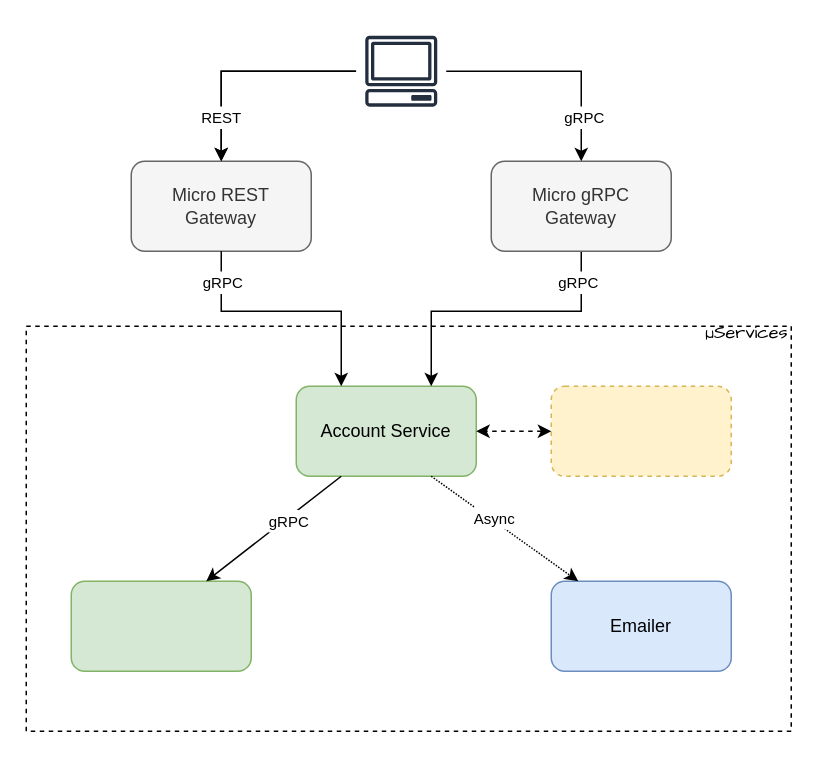
This 818x762 diagram has some shape labels left out. The box of each missing label's shape, as (x1, y1, x2, y2) in pixels:
Greeter Service: (70, 580, 251, 671)
Service Registry: (550, 385, 731, 476)
